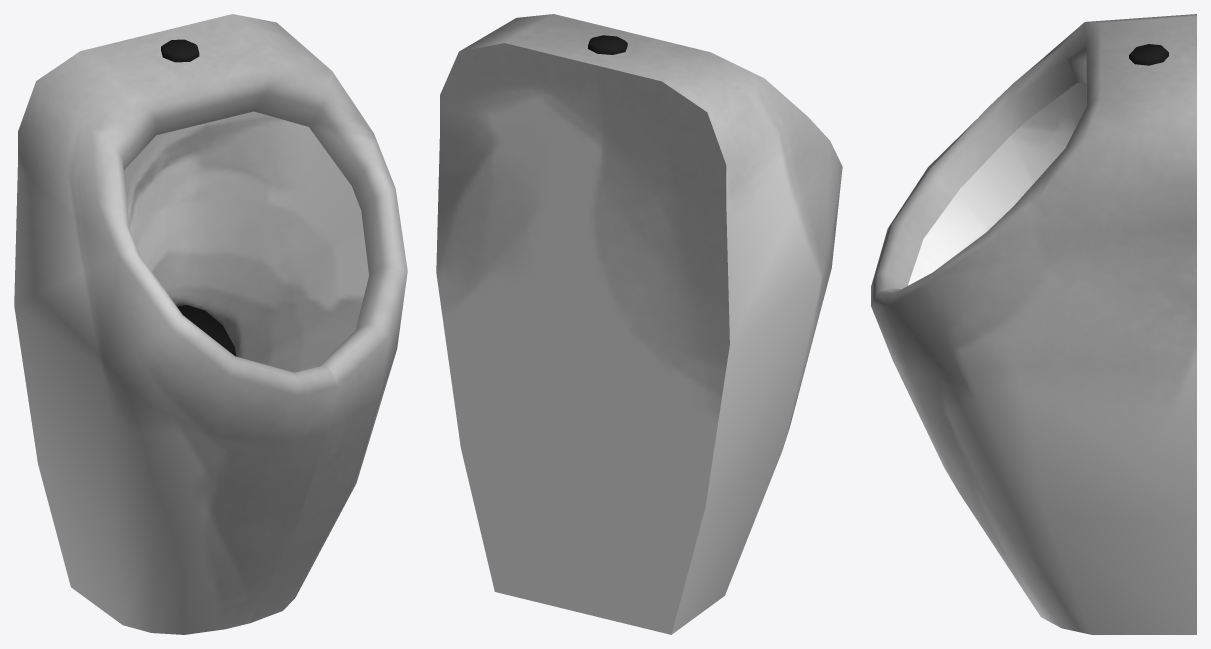
File: Pisoar_Asset.fbx
3 views of the same model, side by side, from view 1: azimuth 30°, elevation 25°; view 2: azimuth 150°, elevation 25°; view 3: azimuth 270°, elevation 25° (orthographic). The views are drawn at different scales.
Parts seen in each view (by area): view 1: Pisoar; view 2: Pisoar; view 3: Pisoar.
Part boxes in pixels (box(x1,y1,x2,y2)): Pisoar: box(14, 14, 407, 634); Pisoar: box(436, 14, 842, 634); Pisoar: box(871, 14, 1196, 634).
Bounding box in the file's own units: 30.1 × 29.6 × 54.38.
